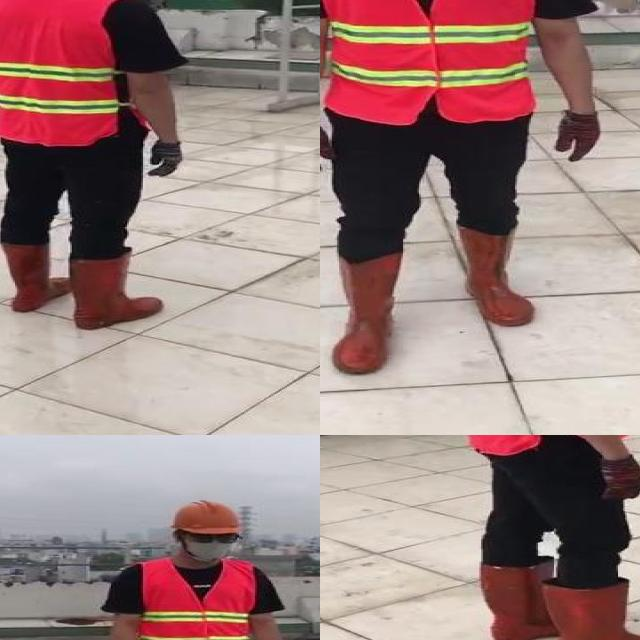boots: (330, 253, 407, 374), (452, 223, 534, 327), (64, 249, 162, 333), (474, 562, 572, 640), (541, 576, 640, 640), (0, 243, 69, 317)
face_mask: (178, 526, 244, 560)
glasses: (184, 528, 242, 546)
hand_glove: (558, 111, 600, 161), (594, 459, 640, 500), (151, 138, 190, 178), (320, 124, 333, 174)
head_helmet: (170, 496, 244, 536)
person: (320, 0, 630, 395), (0, 0, 188, 329), (453, 435, 640, 640), (101, 496, 296, 640)
vest: (320, 0, 540, 119), (0, 0, 128, 148), (141, 558, 258, 640)
